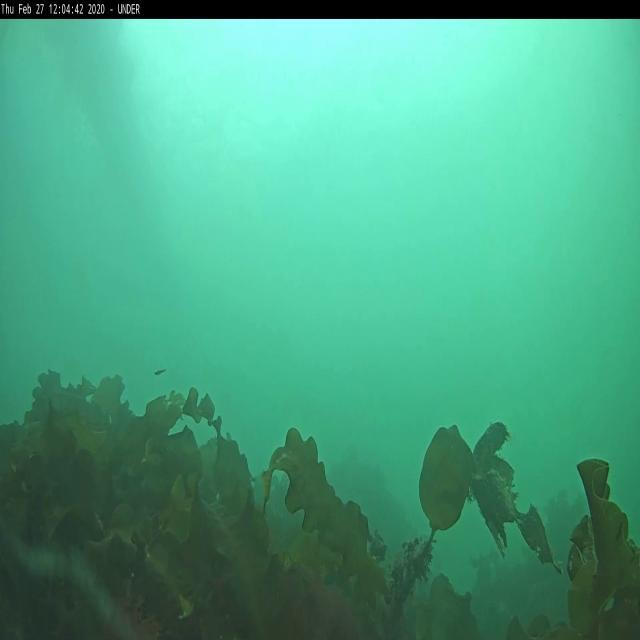fish: (154, 364, 166, 376)
